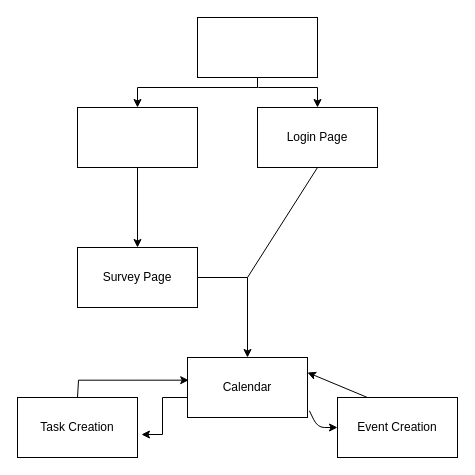
The diagram is 475 pixels wide and 475 high, and some of its shapes have lost their labels. The shapes that lost their labels are listed below. From the top down, each one's centre as x and y in pixels, then its label:
At point 257,47: "Home Page".
At point 137,137: "Create Account".
